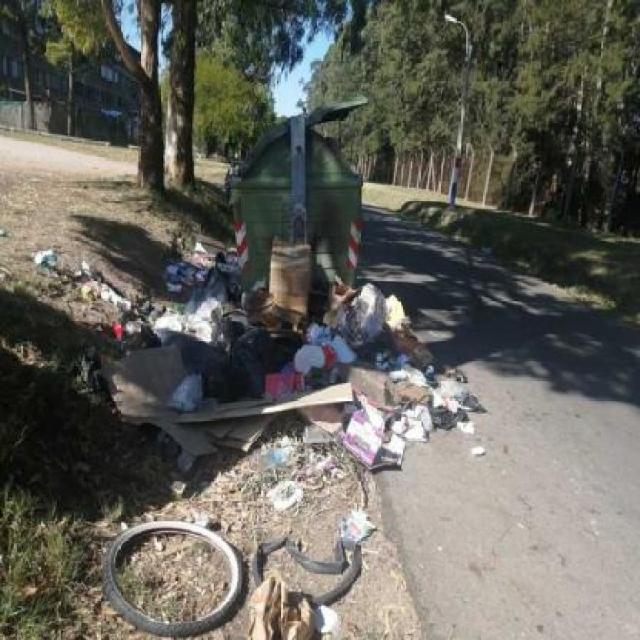garbage: (121, 301, 396, 640), (189, 230, 476, 469), (37, 246, 183, 404)
